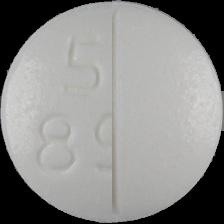10544-093: (0, 0, 224, 224)
